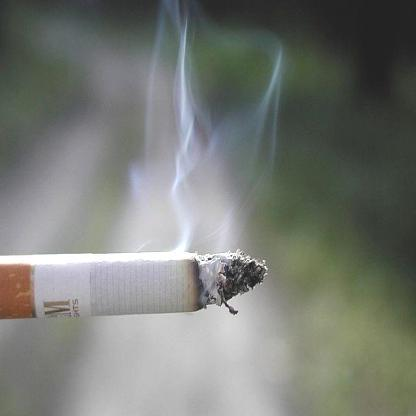cigarette: (0, 249, 269, 322)
smoke: (160, 23, 213, 255)
